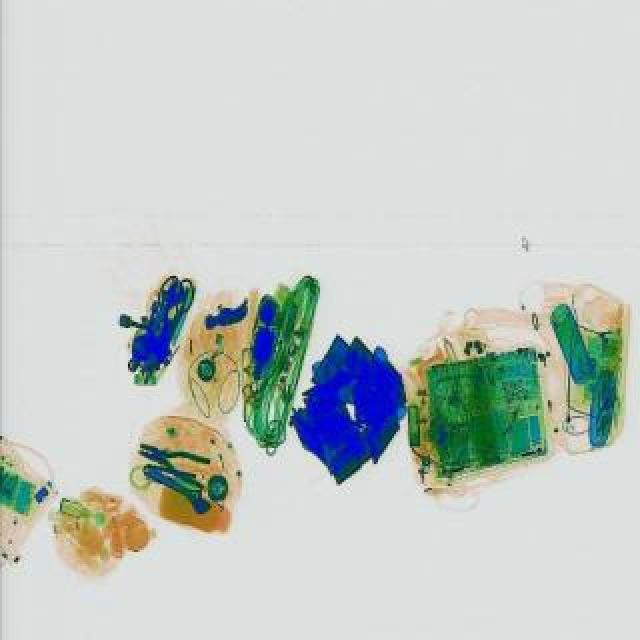scissors: (138, 456, 218, 518)
wrench: (134, 436, 216, 488)
